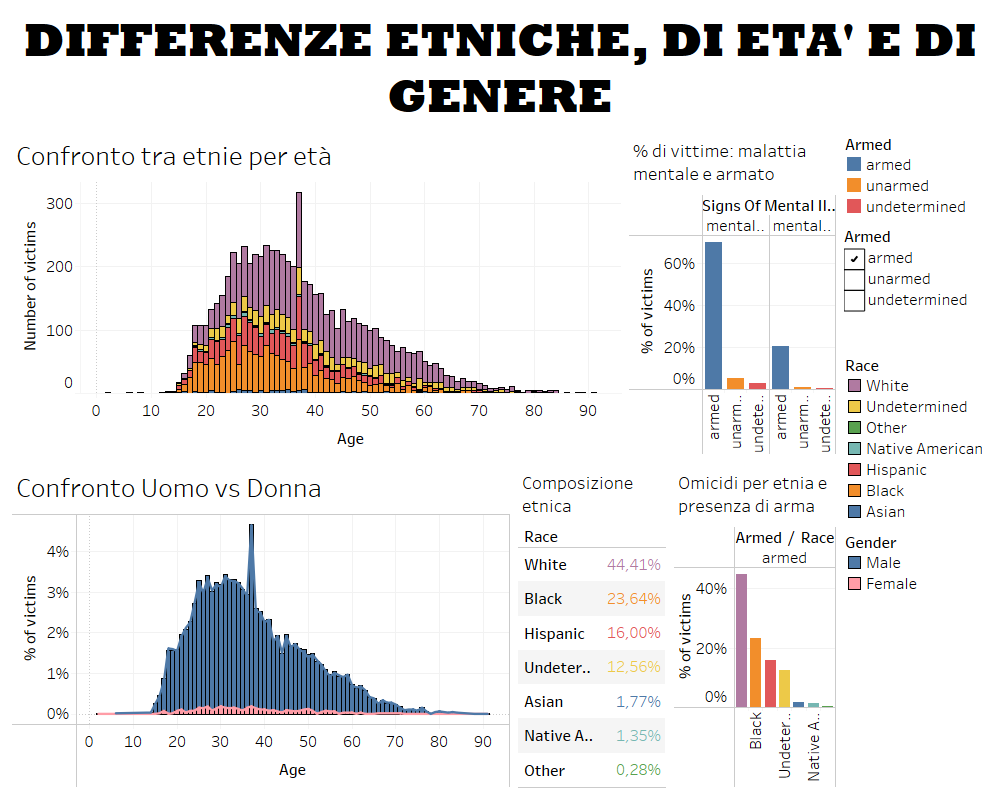

Layout of this report page (visuals, bound fields, positions):
{"tool":"tableau","page":{"name":"Dashboard 2","canvas":[1000,800],"ordinal":1},"visuals":[{"type":"title","box":[8,8,984,120]},{"type":"worksheet","title":"Foglio 6","mark":"Bar","rows":["cleaned_dataset.csv_8241F1DBC24F4195940C49217215E1F5"],"cols":["age "],"box":[8,128,617,332]},{"type":"worksheet","title":"Foglio 7","mark":"Automatic","rows":["cleaned_dataset.csv_8241F1DBC24F4195940C49217215E1F5"],"cols":["signs_of_mental_illness ","armed "],"box":[625,128,215,332]},{"type":"legend","title":"Foglio 7","param":"[federated.1p3l17z1kl7a3q19aif3b07l2cyk].[none:armed :nk]","box":[840,128,152,93]},{"type":"filter","title":"Foglio 8","param":"[federated.1p3l17z1kl7a3q19aif3b07l2cyk].[none:armed :nk]","box":[840,221,152,128]},{"type":"legend","title":"Foglio 6","param":"[federated.1p3l17z1kl7a3q19aif3b07l2cyk].[none:race :nk]","box":[840,349,152,177]},{"type":"worksheet","title":"Foglio 5","mark":"Bar","rows":["cleaned_dataset.csv_8241F1DBC24F4195940C49217215E1F5","cleaned_dataset.csv_8241F1DBC24F4195940C49217215E1F5"],"cols":["age "],"box":[8,460,506,332]},{"type":"worksheet","title":"Foglio 14","mark":"Automatic","rows":["race "],"box":[514,460,156,332]},{"type":"worksheet","title":"Foglio 8","mark":"Bar","rows":["cleaned_dataset.csv_8241F1DBC24F4195940C49217215E1F5"],"cols":["armed ","race "],"box":[670,460,170,332]},{"type":"legend","title":"Foglio 5","param":"[federated.1p3l17z1kl7a3q19aif3b07l2cyk].[none:gender :nk]","box":[840,526,152,72]}]}

Visuals, with their boxes in screenshot pixels (x1, y1, x2, y2), scaled from the page's 1000x800 canvas onto the 1000x800 screenshot:
title: region(8, 8, 992, 128)
"Foglio 6" worksheet (Bar marks): region(8, 128, 625, 460)
"Foglio 7" worksheet: region(625, 128, 840, 460)
"Foglio 7" legend: region(840, 128, 992, 221)
"Foglio 8" filter: region(840, 221, 992, 349)
"Foglio 6" legend: region(840, 349, 992, 526)
"Foglio 5" worksheet (Bar marks): region(8, 460, 514, 792)
"Foglio 14" worksheet: region(514, 460, 670, 792)
"Foglio 8" worksheet (Bar marks): region(670, 460, 840, 792)
"Foglio 5" legend: region(840, 526, 992, 598)
